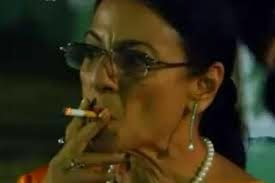cigarette: (51, 96, 116, 130)
